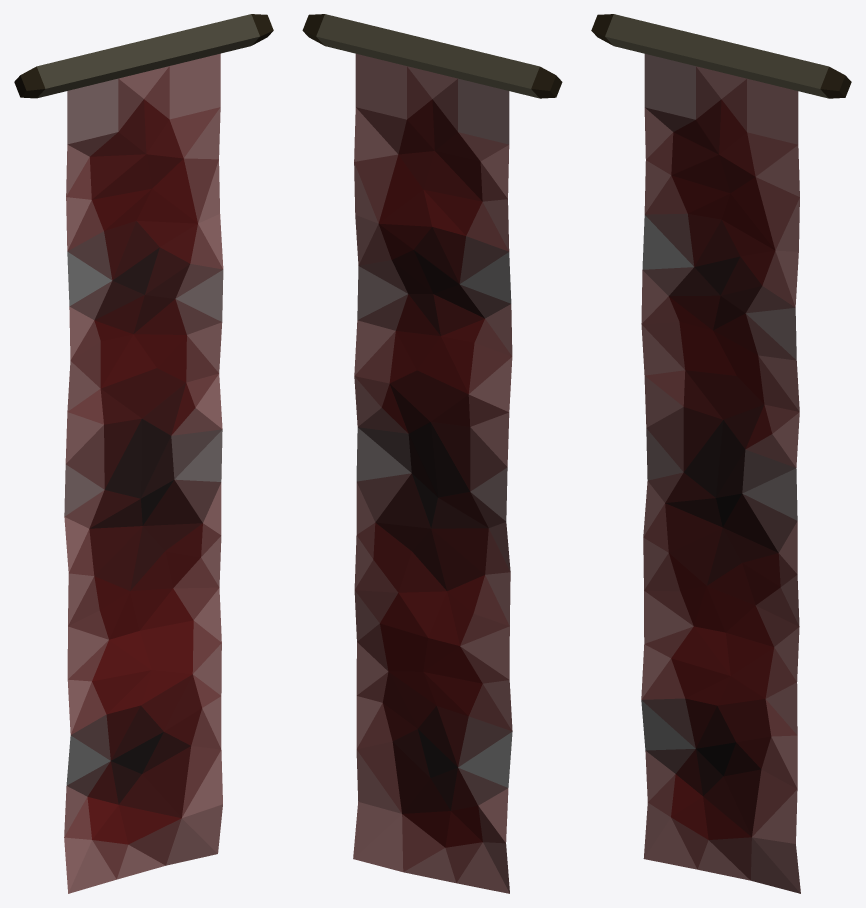
File: Prop_TapestryThinC.fbx
3 views of the same model, side by side, from view 1: azimuth 30°, elevation 25°; view 2: azimuth 150°, elevation 25°; view 3: azimuth 330°, elevation 25° (orthographic).
Visible parts, largest first — view 1: Prop_TapestryThinC; view 2: Prop_TapestryThinC; view 3: Prop_TapestryThinC.
Boxes of the visible parts, left/top/right/bottom form: Prop_TapestryThinC: left=14, top=14, right=273, bottom=893; Prop_TapestryThinC: left=302, top=14, right=562, bottom=893; Prop_TapestryThinC: left=591, top=14, right=851, bottom=893.
Bounding box in the file's own units: 80.63 × 260 × 10.
